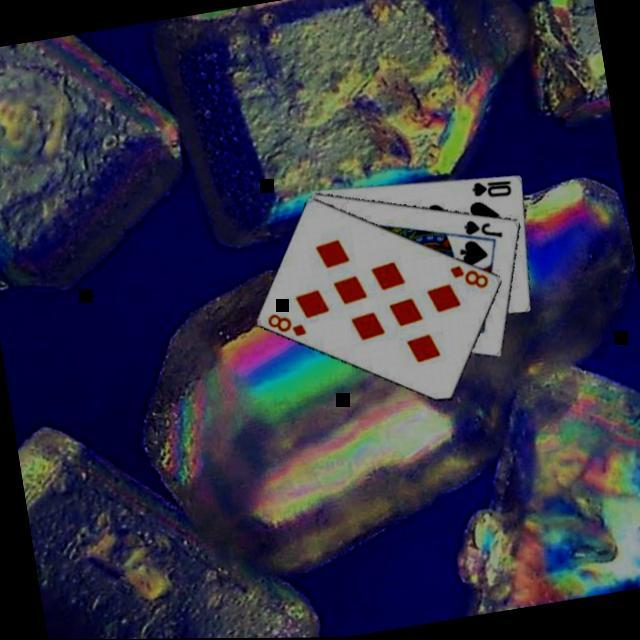10S: (469, 172, 517, 203)
8D: (447, 257, 494, 295), (265, 305, 311, 343)
JS: (460, 212, 507, 245)
